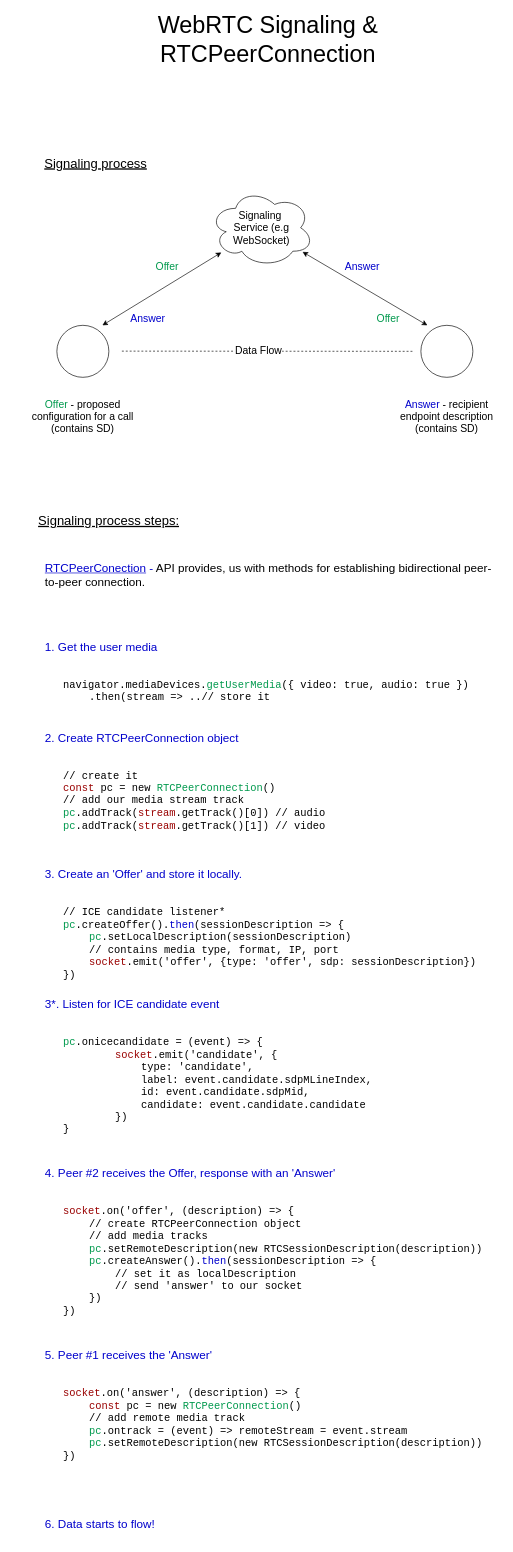
The diagram is 513 pixels wide and 1552 high, and some of its shapes have lost their labels. Each missing label, with the centre of its shape:
Peer 1: point (82, 351)
Peer 2: point (446, 351)
